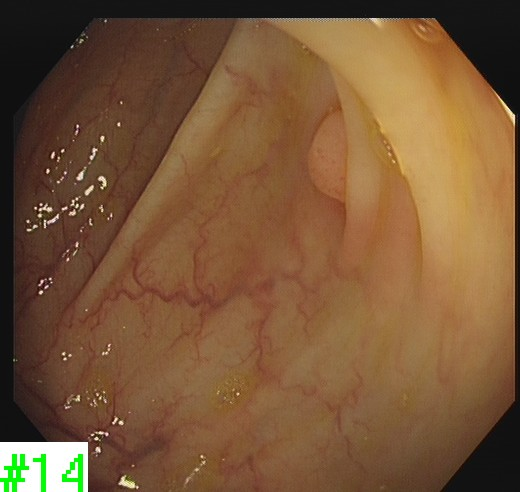adenoma: (305, 109, 350, 209)
